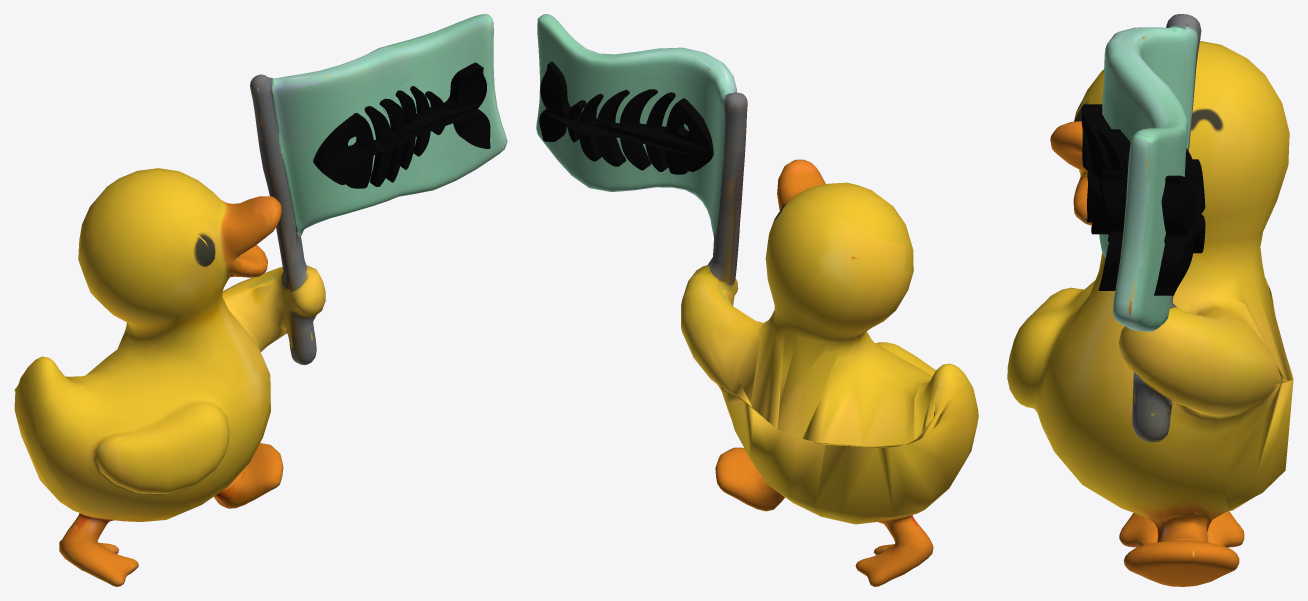
The model's file is Ducky.glb.
3 renders of one model, left to right at view 1: azimuth 30°, elevation 25°; view 2: azimuth 150°, elevation 25°; view 3: azimuth 270°, elevation 25°, orthographic. The views are drawn at different scales.
Parts seen in each view (by area): view 1: Ducky; view 2: Ducky; view 3: Ducky.
Part boxes in pixels (x1,y1,x2,y2): Ducky: (14, 14, 507, 586); Ducky: (536, 14, 978, 586); Ducky: (1007, 14, 1293, 586).
Size of the model in its own units: 0.3725 by 0.3655 by 0.1415.
2 materials, 1 textured.
